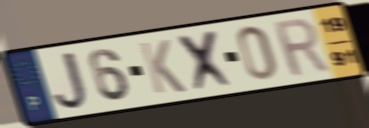0: (235, 23, 281, 84)
6: (87, 48, 131, 103)
J: (51, 49, 90, 113)
K: (137, 37, 189, 96)
R: (270, 15, 333, 80)
X: (174, 27, 238, 94)
